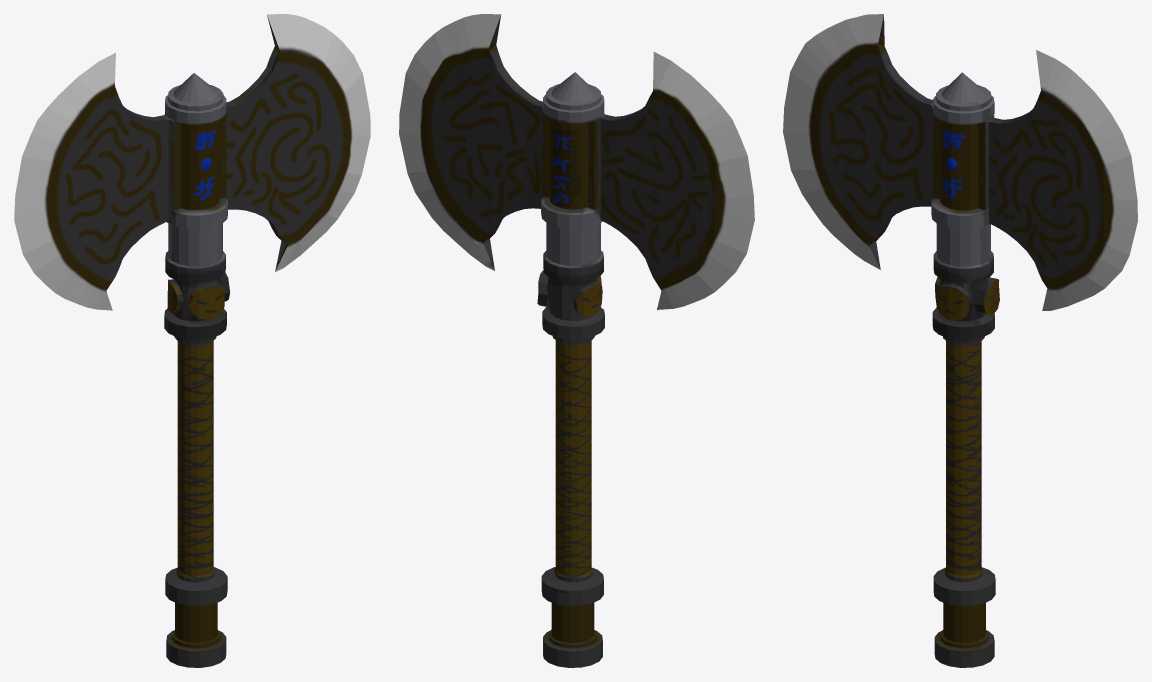
File: axe.fbx
The picture shows the model from 3 angles, left to right: view 1: azimuth 30°, elevation 25°; view 2: azimuth 150°, elevation 25°; view 3: azimuth 330°, elevation 25°; orthographic projection.
Visible parts, largest first — view 1: Plane; view 2: Plane; view 3: Plane.
Boxes of the visible parts, <box> form: Plane: <box>14,14,370,667</box>; Plane: <box>399,14,754,667</box>; Plane: <box>783,14,1137,667</box>.
Size of the model in its own units: 775 by 1302 by 124.
Materials: 1 (1 with a texture image).
